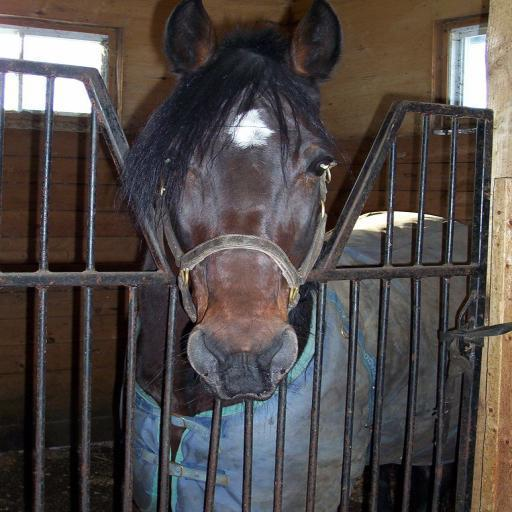horse: (112, 0, 480, 512)
